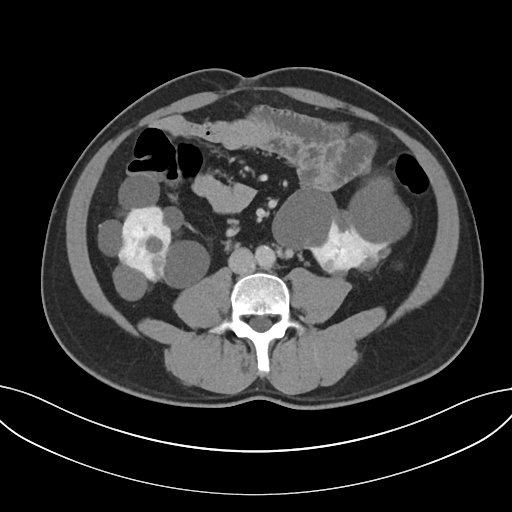Lesion: (146, 253, 167, 282)
